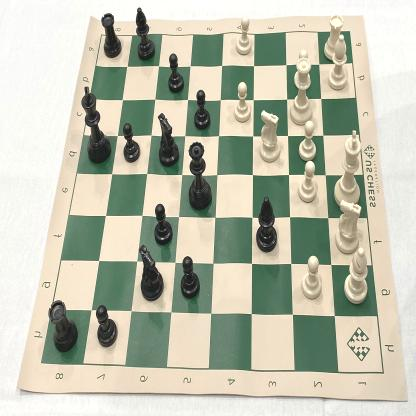black-bishop: (255, 193, 280, 255), (133, 4, 155, 63)
black-king: (80, 84, 113, 166)
black-knight: (136, 241, 164, 305), (157, 109, 180, 169)
black-pawn: (93, 300, 120, 352), (179, 252, 202, 300), (121, 119, 143, 167), (152, 202, 174, 247), (192, 86, 212, 135), (167, 51, 186, 95)
black-queen: (186, 136, 213, 214)
black-rook: (47, 297, 80, 355), (99, 9, 123, 62)
white-bishop: (342, 245, 370, 304), (326, 33, 350, 92)
white-king: (333, 126, 363, 208)
white-knight: (334, 197, 364, 256), (258, 109, 283, 166)
white-pawn: (300, 254, 323, 302), (297, 160, 320, 206), (292, 48, 313, 90), (234, 15, 255, 57), (298, 119, 318, 163), (233, 82, 252, 126)
white-queen: (287, 58, 318, 126)
white-rook: (322, 9, 346, 62)
